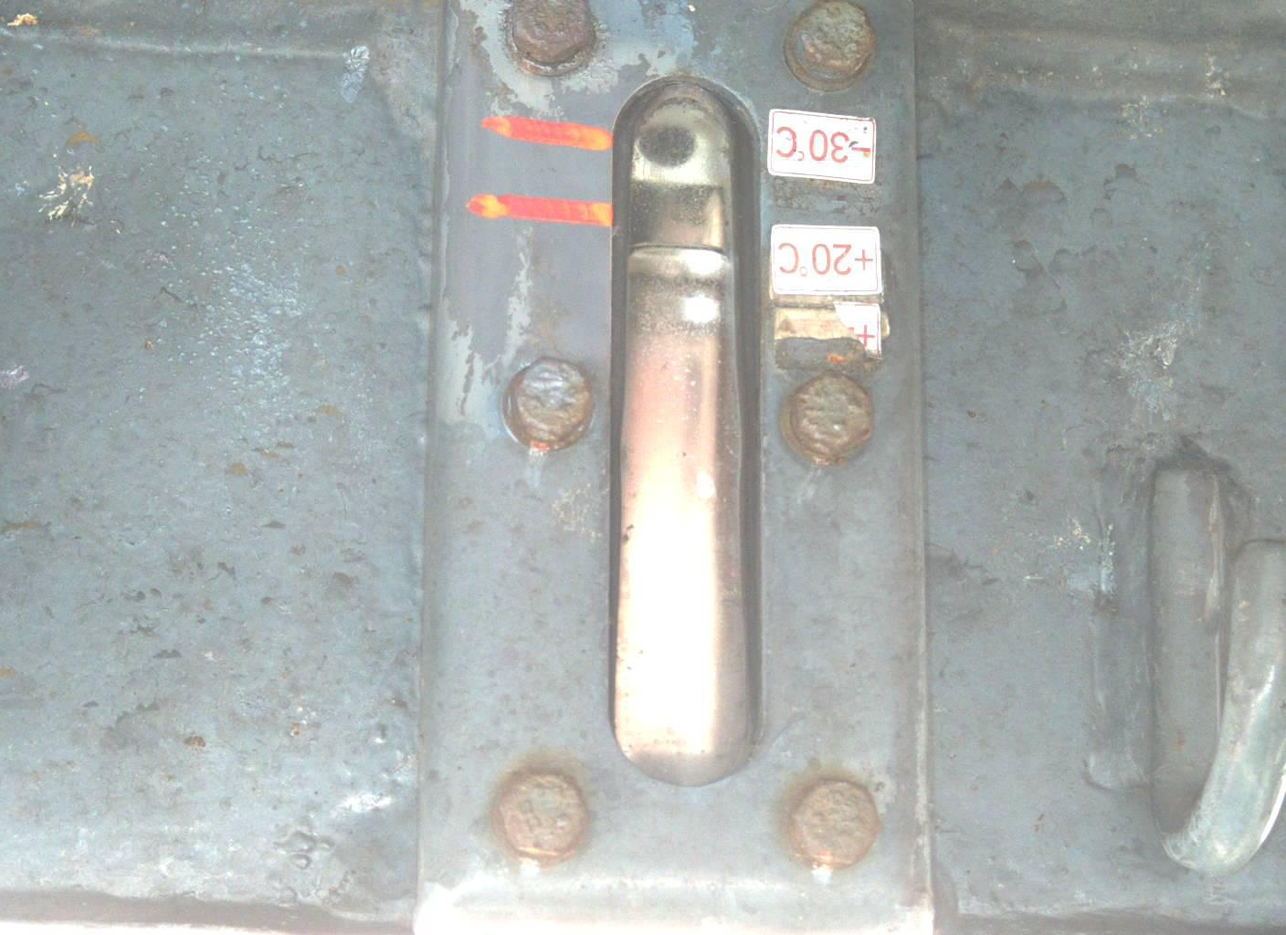oil_level_gauge: (459, 0, 895, 864)
